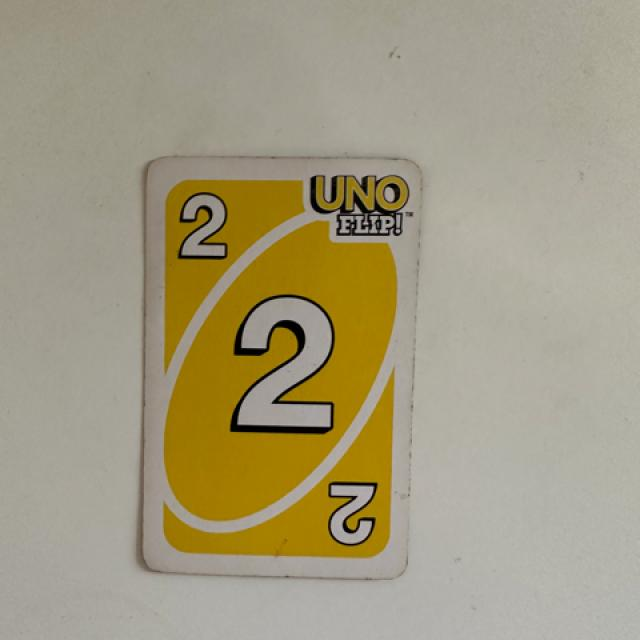lyellow-2: (156, 168, 253, 285)
